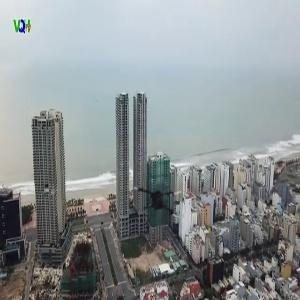drone: (133, 168, 194, 229)
